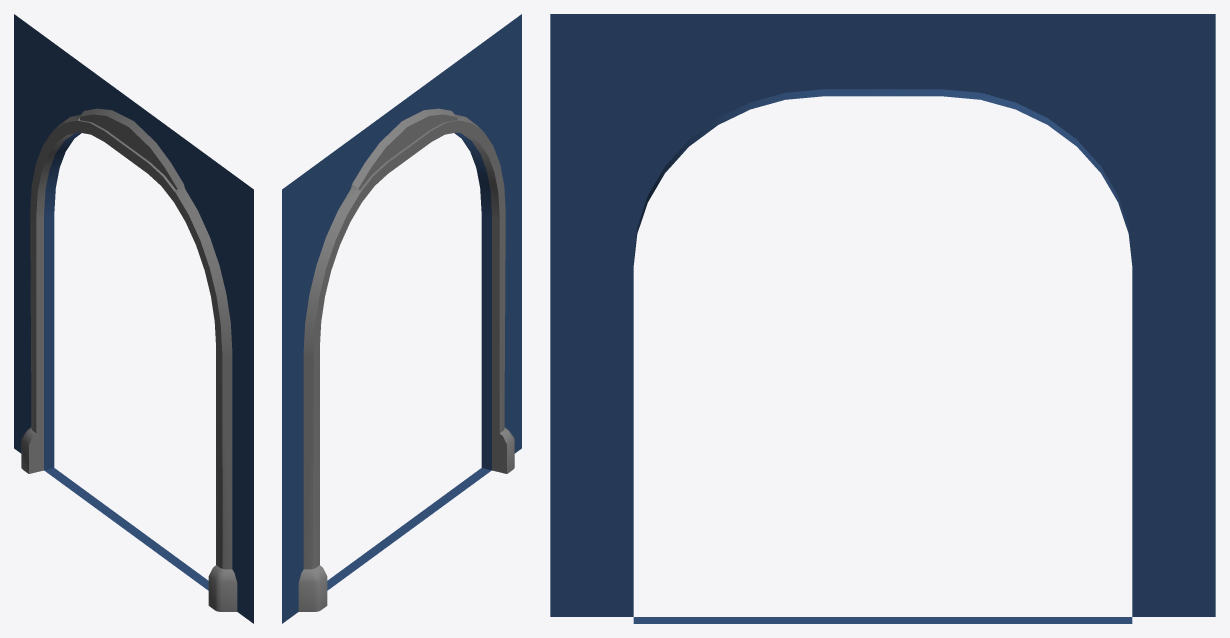
Rendered from Wall Door.fbx.
The picture shows the model from 3 angles, left to right: view 1: azimuth 30°, elevation 25°; view 2: azimuth 150°, elevation 25°; view 3: azimuth 270°, elevation 25°; orthographic projection. The views are drawn at different scales.
Visible parts, largest first — view 1: MuralDoor_4x4; view 2: MuralDoor_4x4; view 3: MuralDoor_4x4.
Part boxes in pixels (x1,y1,x2,y2): MuralDoor_4x4: [14, 14, 253, 623]; MuralDoor_4x4: [282, 14, 521, 623]; MuralDoor_4x4: [550, 14, 1215, 623].
Size of the model in its own units: 9.73 by 157 by 157.
